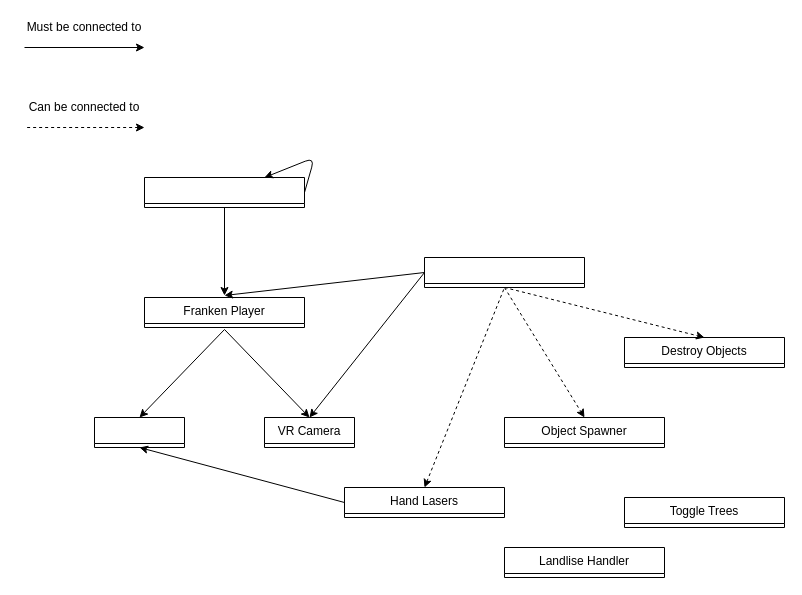
This 802x595 diagram has some shape labels left out. Here are the shapes that lost their labels. From the top down, the centre of each, then its label:
At point 224,192: "Teleporter".
At point 504,272: "Image Viewer".
At point 139,432: "Hand".
